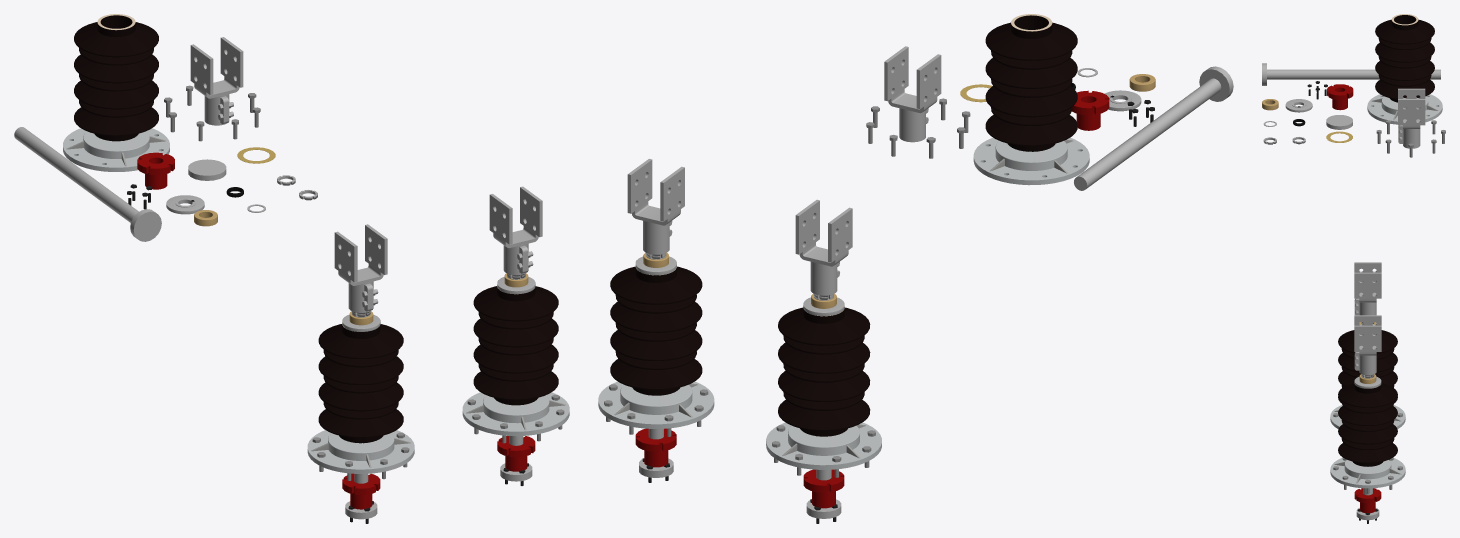
File: ZB-低压套管-1.fbx
The picture shows the model from 3 angles, left to right: view 1: azimuth 30°, elevation 25°; view 2: azimuth 150°, elevation 25°; view 3: azimuth 270°, elevation 25°; orthographic projection. The views are drawn at different scales.
Parts seen in each view (by area): view 1: C相瓷绝缘子-6, B相瓷绝缘子, A相瓷绝缘子, C相接线板-14, A相接线板, B相接线板, C相电容芯体-1, C相部件一-3, B相部件一, A相部件一, C相法兰螺母-13, C相部件二-4; view 2: C相瓷绝缘子-6, A相瓷绝缘子, B相瓷绝缘子, C相接线板-14, A相接线板, B相接线板, C相电容芯体-1, C相部件一-3, A相部件一, B相部件一, C相法兰螺母-13; view 3: A相瓷绝缘子, C相瓷绝缘子-6, B相瓷绝缘子, A相接线板, C相接线板-14, C相电容芯体-1, B相接线板, C相部件一-3, A相部件一, C相法兰螺母-13, C相部件二-4, C相蝶形弹簧垫圈-7 (+1 smaller).
Boxes of the visible parts, x1,y1,x2,y2 form: C相瓷绝缘子-6: [63, 14, 169, 171]; B相瓷绝缘子: [307, 323, 414, 473]; A相瓷绝缘子: [462, 285, 569, 436]; C相接线板-14: [190, 37, 243, 125]; A相接线板: [489, 186, 542, 275]; B相接线板: [334, 224, 387, 312]; C相电容芯体-1: [14, 127, 161, 241]; C相部件一-3: [137, 152, 174, 189]; B相部件一: [342, 473, 380, 509]; A相部件一: [497, 436, 535, 471]; C相法兰螺母-13: [164, 85, 260, 141]; C相部件二-4: [188, 159, 226, 180]; C相瓷绝缘子-6: [973, 14, 1089, 185]; A相瓷绝缘子: [598, 266, 714, 428]; B相瓷绝缘子: [766, 307, 881, 469]; C相接线板-14: [884, 46, 941, 142]; A相接线板: [627, 158, 684, 254]; B相接线板: [795, 199, 852, 295]; C相电容芯体-1: [1074, 66, 1233, 190]; C相部件一-3: [1072, 90, 1109, 130]; A相部件一: [635, 428, 676, 467]; B相部件一: [803, 469, 844, 508]; C相法兰螺母-13: [866, 98, 970, 158]; A相瓷绝缘子: [1330, 383, 1405, 488]; C相瓷绝缘子-6: [1367, 14, 1442, 124]; B相瓷绝缘子: [1330, 330, 1405, 428]; A相接线板: [1354, 315, 1381, 375]; C相接线板-14: [1398, 88, 1425, 148]; C相电容芯体-1: [1262, 63, 1440, 85]; B相接线板: [1354, 262, 1381, 315]; C相部件一-3: [1327, 84, 1353, 110]; A相部件一: [1354, 488, 1381, 513]; C相法兰螺母-13: [1376, 120, 1445, 157]; C相部件二-4: [1326, 115, 1352, 129]; C相蝶形弹簧垫圈-7: [1285, 99, 1312, 112].
Size of the model in its own units: 641 by 645 by 288.
12 materials, 2 textured.
